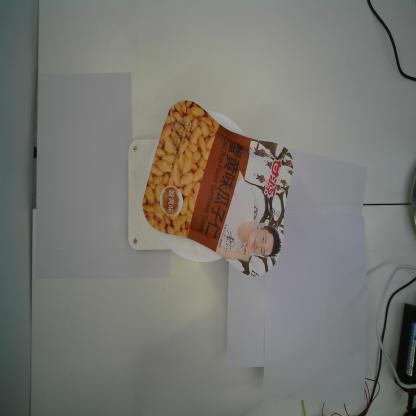Dried Fruit: (142, 100, 294, 278)
